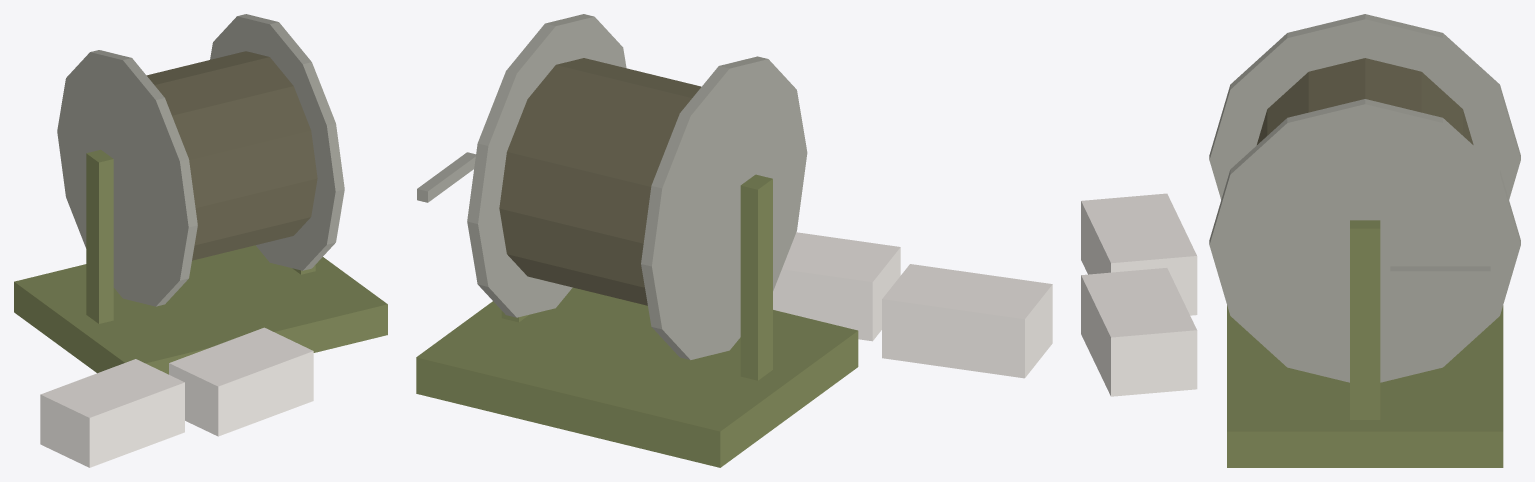
The model's file is SM_Carrete_v0_Patin_LOD0.fbx.
3 views of the same model, side by side, from view 1: azimuth 30°, elevation 25°; view 2: azimuth 150°, elevation 25°; view 3: azimuth 270°, elevation 25° (orthographic). The views are drawn at different scales.
Visible parts, largest first — view 1: SM_farp_betera_v10_LOD0; view 2: SM_farp_betera_v10_LOD0; view 3: SM_farp_betera_v10_LOD0.
Part boxes in pixels (box(x1,y1,x2,y2)): SM_farp_betera_v10_LOD0: box(14, 14, 387, 467); SM_farp_betera_v10_LOD0: box(416, 14, 1052, 467); SM_farp_betera_v10_LOD0: box(1081, 14, 1520, 467).
Bounding box in the file's own units: 2.05 × 1.47 × 1.75.
